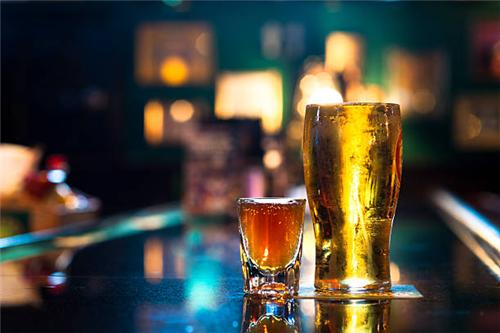alcohol: (304, 102, 401, 291), (235, 197, 307, 293)
